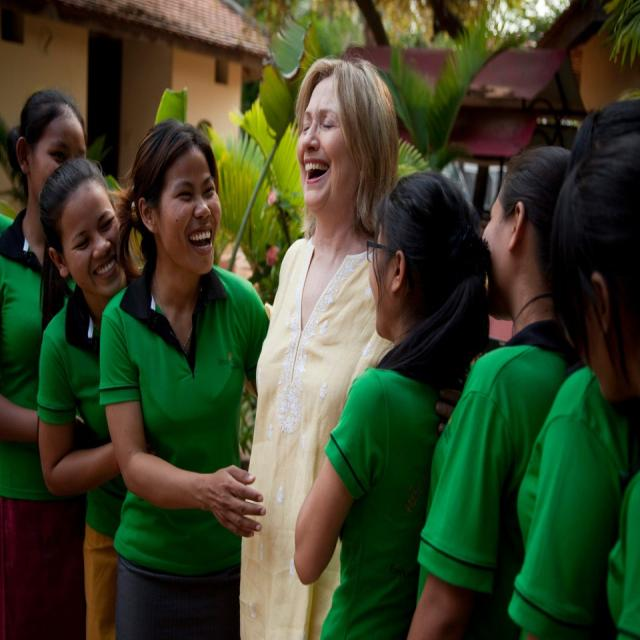body: (236, 55, 402, 640), (292, 170, 493, 640), (96, 118, 270, 640), (406, 139, 573, 640), (505, 102, 639, 640), (35, 155, 151, 640), (0, 86, 90, 640), (547, 132, 639, 639), (0, 198, 14, 242)
